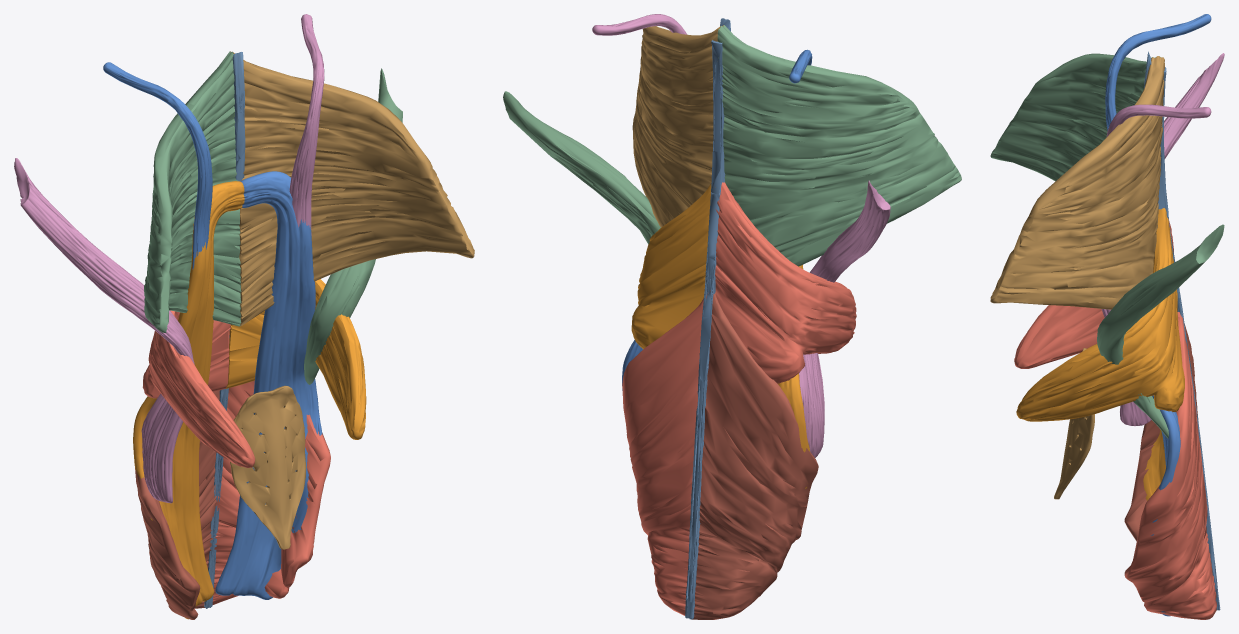
The model's file is pharynx.glb.
The picture shows the model from 3 angles, left to right: view 1: azimuth 30°, elevation 25°; view 2: azimuth 150°, elevation 25°; view 3: azimuth 270°, elevation 25°; orthographic projection. The views are drawn at different scales.
Visible parts, largest first — view 1: Left superior pharyngeal constrictor, Right superior pharyngeal constrictor, Left palatopharyngeus, Right palatopharyngeus, Right stylopharyngeus, Epiglottis, Left middle pharyngeal constrictor, Left inferior pharyngeal constrictor, Right middle pharyngeal constrictor, Right inferior pharyngeal constrictor, Left stylopharyngeus, Left salpingopharyngeus (+2 smaller); view 2: Right superior pharyngeal constrictor, Right inferior pharyngeal constrictor, Left inferior pharyngeal constrictor, Left middle pharyngeal constrictor, Left superior pharyngeal constrictor, Right middle pharyngeal constrictor, Pharyngeal raphe, Left stylopharyngeus, Right stylopharyngeus, Left salpingopharyngeus, Right palatopharyngeus; view 3: Left superior pharyngeal constrictor, Left inferior pharyngeal constrictor, Right middle pharyngeal constrictor, Right superior pharyngeal constrictor, Left stylopharyngeus, Left middle pharyngeal constrictor, Right stylopharyngeus, Right salpingopharyngeus, Right inferior pharyngeal constrictor, Pharyngeal raphe, Epiglottis, Left salpingopharyngeus (+2 smaller).
Part boxes in pixels (x1,y1,x2,y2): Left superior pharyngeal constrictor: (230, 51, 474, 325); Right superior pharyngeal constrictor: (144, 51, 241, 332); Left palatopharyngeus: (215, 171, 322, 599); Right palatopharyngeus: (133, 181, 244, 619); Right stylopharyngeus: (14, 158, 194, 503); Epiglottis: (230, 385, 306, 549); Left middle pharyngeal constrictor: (142, 310, 255, 467); Left inferior pharyngeal constrictor: (212, 381, 330, 604); Right middle pharyngeal constrictor: (225, 279, 366, 439); Right inferior pharyngeal constrictor: (135, 390, 219, 619); Left stylopharyngeus: (304, 68, 402, 384); Left salpingopharyngeus: (289, 14, 324, 235); Right superior pharyngeal constrictor: (717, 25, 961, 266); Right inferior pharyngeal constrictor: (692, 290, 818, 619); Left inferior pharyngeal constrictor: (622, 293, 708, 615); Left middle pharyngeal constrictor: (715, 182, 856, 383); Left superior pharyngeal constrictor: (632, 25, 723, 227); Right middle pharyngeal constrictor: (631, 183, 715, 349); Pharyngeal raphe: (685, 18, 730, 619); Left stylopharyngeus: (503, 91, 660, 244); Right stylopharyngeus: (799, 180, 890, 457); Left salpingopharyngeus: (592, 14, 686, 35); Right palatopharyngeus: (778, 265, 810, 488); Left superior pharyngeal constrictor: (990, 56, 1164, 309); Left inferior pharyngeal constrictor: (1124, 312, 1216, 619); Right middle pharyngeal constrictor: (1016, 208, 1184, 421); Right superior pharyngeal constrictor: (990, 53, 1161, 181); Left stylopharyngeus: (1097, 224, 1224, 438); Left middle pharyngeal constrictor: (1014, 219, 1173, 368); Right stylopharyngeus: (1101, 53, 1224, 426); Right salpingopharyngeus: (1105, 14, 1211, 130); Right inferior pharyngeal constrictor: (1124, 324, 1198, 541); Pharyngeal raphe: (1144, 51, 1220, 610); Epiglottis: (1054, 348, 1094, 499); Left salpingopharyngeus: (1106, 104, 1211, 137).
Bounding box in the file's own units: 1.38 × 2 × 0.7595.
